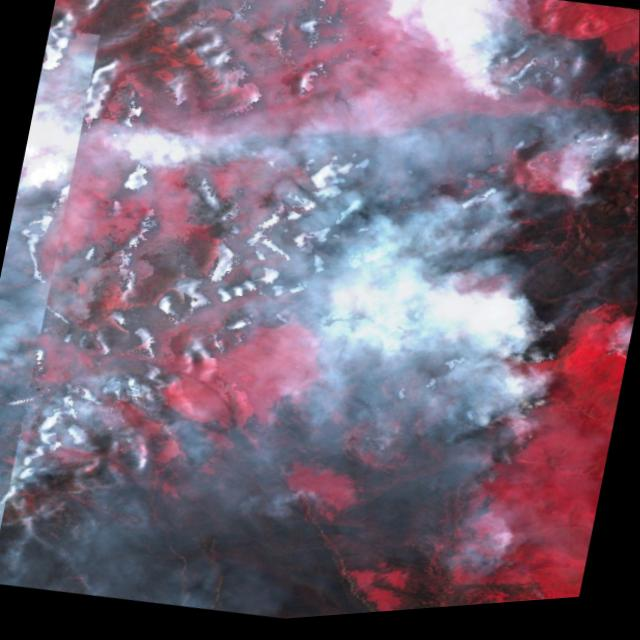fire: (494, 384, 559, 451), (488, 0, 554, 61), (464, 68, 530, 118), (237, 144, 299, 188)
